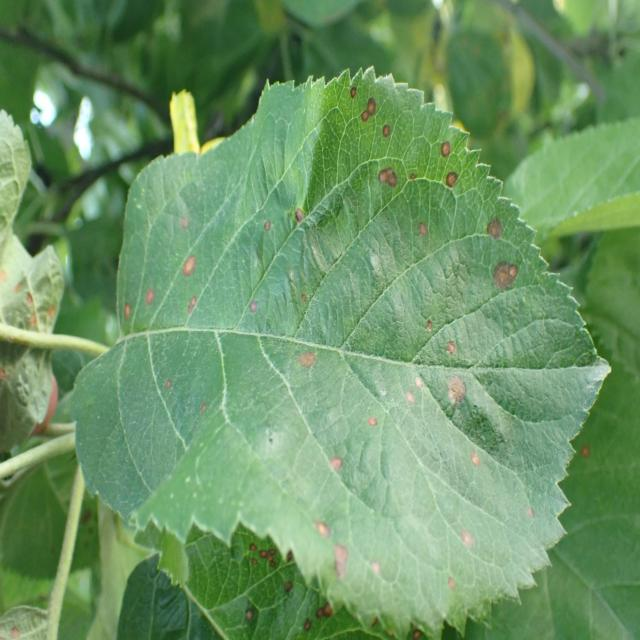Black Rot: (482, 250, 533, 306), (316, 436, 350, 496), (441, 364, 477, 414), (394, 376, 419, 434), (329, 542, 356, 592), (460, 444, 491, 483), (350, 402, 382, 438), (172, 249, 203, 285), (363, 548, 385, 598), (371, 157, 401, 193), (140, 272, 162, 319), (295, 344, 322, 382), (305, 509, 331, 548), (521, 489, 546, 528), (420, 298, 440, 344), (440, 170, 466, 205), (411, 356, 427, 410), (480, 213, 507, 245), (454, 526, 479, 558), (295, 282, 315, 320), (160, 370, 183, 403), (440, 323, 460, 360), (176, 294, 203, 321), (256, 209, 278, 242), (116, 294, 135, 332), (358, 96, 383, 124), (288, 197, 308, 232), (577, 432, 595, 468), (410, 214, 433, 242), (190, 390, 210, 422), (173, 212, 198, 235), (242, 291, 264, 317), (437, 573, 463, 595), (434, 141, 459, 161), (340, 82, 361, 104), (405, 162, 421, 190), (382, 126, 396, 137)
